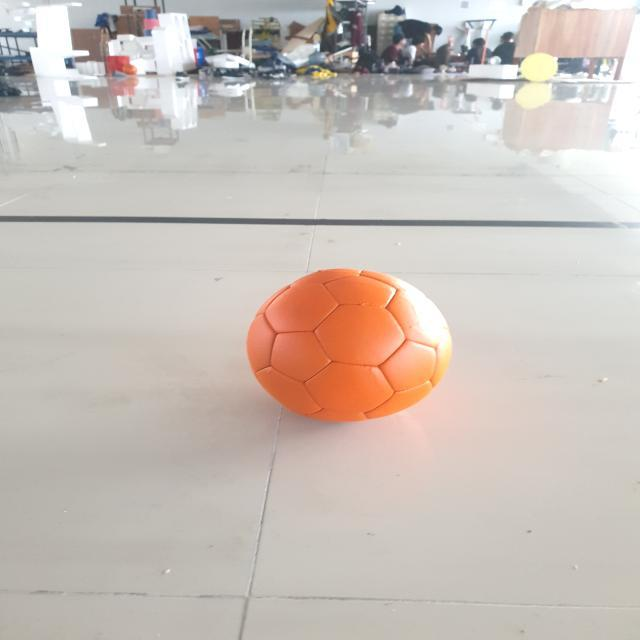bola: (244, 262, 457, 424)
